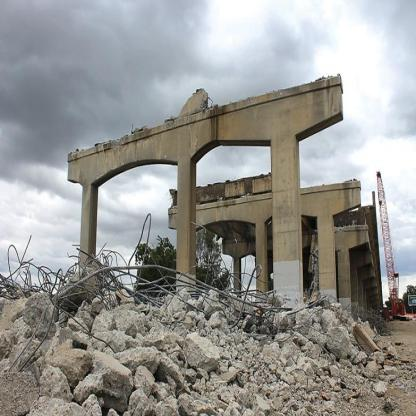rebar: (5, 206, 299, 375), (304, 278, 388, 337)
